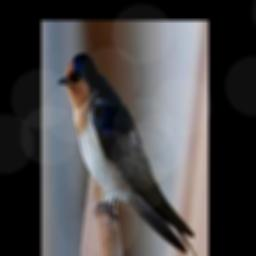Swallow: (57, 52, 206, 256)
